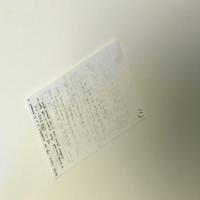paper: (25, 37, 149, 182)
